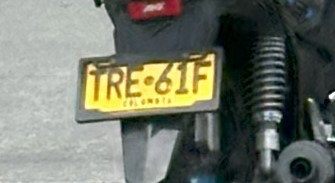number plate: (76, 48, 221, 121)
